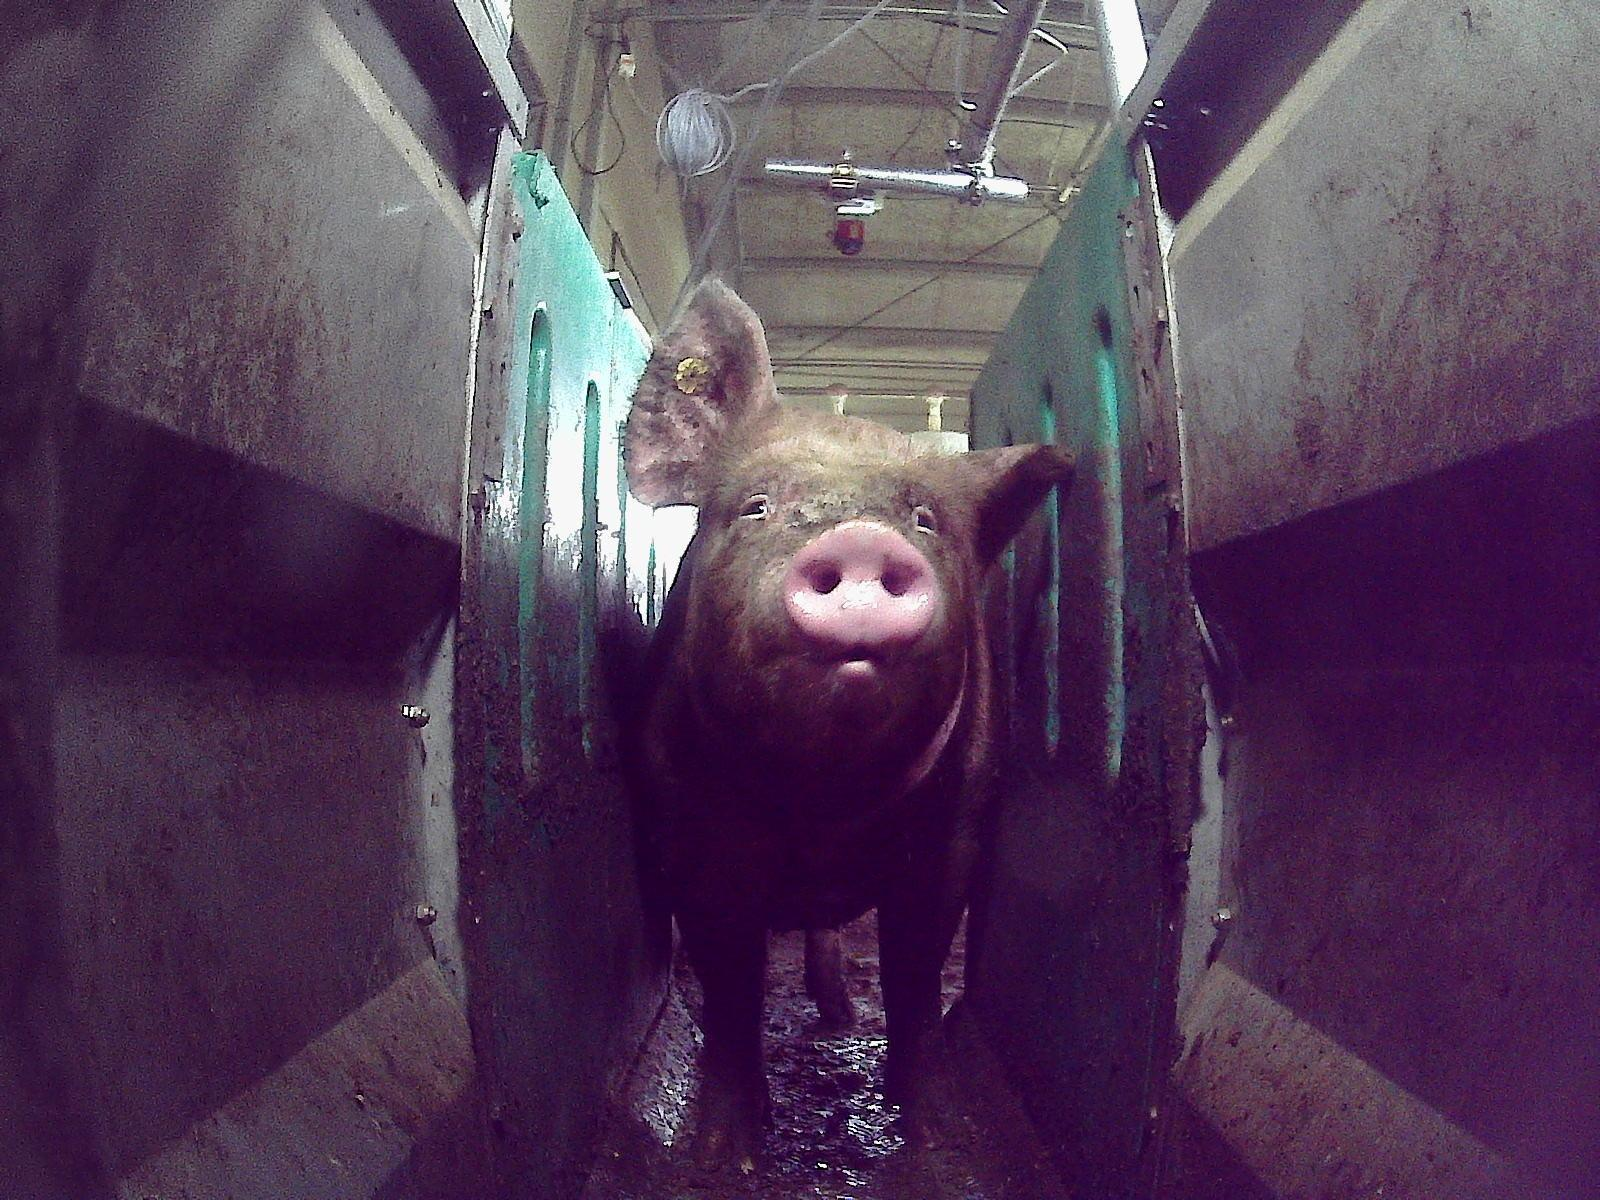Face: (689, 440, 963, 806)
